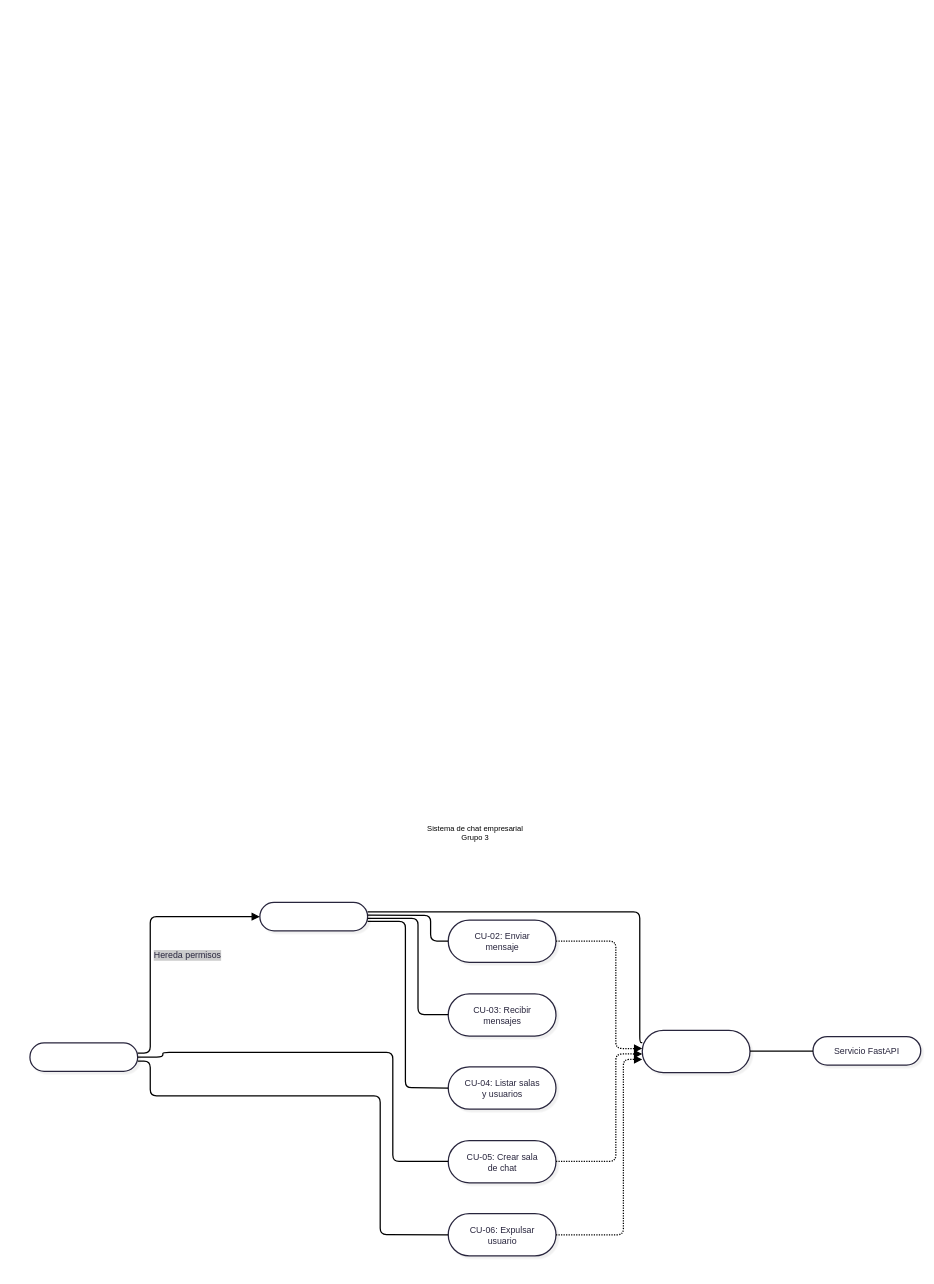
This 934x1284 diagram has some shape labels left out. Here are the shapes that lost their labels. From the top down, the centre of each, then its label:
pixel 314 918: Empleado
pixel 84 1058: Administrador
pixel 697 1052: CU-01: Iniciar sesion
